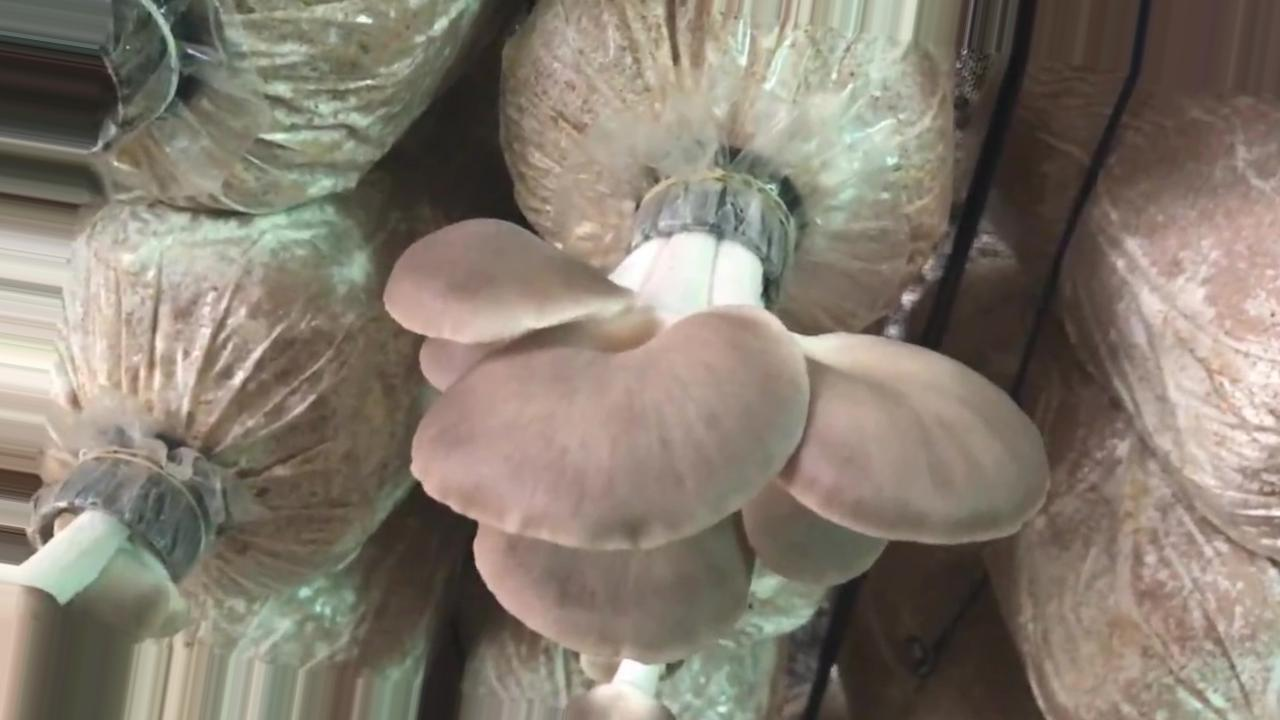nam: (381, 182, 1050, 666), (1, 463, 202, 720), (558, 654, 678, 720)
